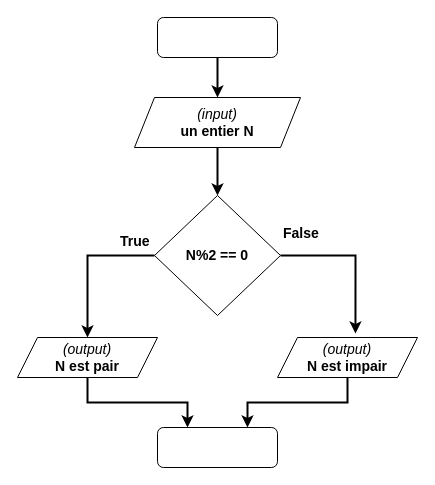
The diagram is 435 pixels wide and 485 high, and some of its shapes have lost their labels. Each missing label, with the centre of its shape:
"Début" goes at [217,37].
"Fin" goes at [217,447].
